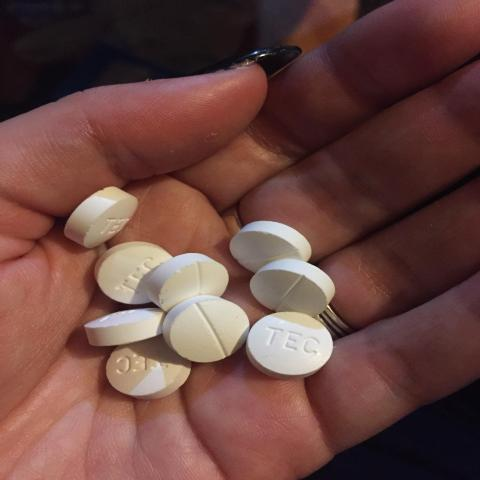Pill: (163, 292, 258, 375), (251, 302, 338, 391), (144, 239, 245, 307), (226, 199, 327, 266), (99, 336, 195, 404), (57, 180, 143, 247), (252, 257, 337, 310), (83, 304, 168, 343)
